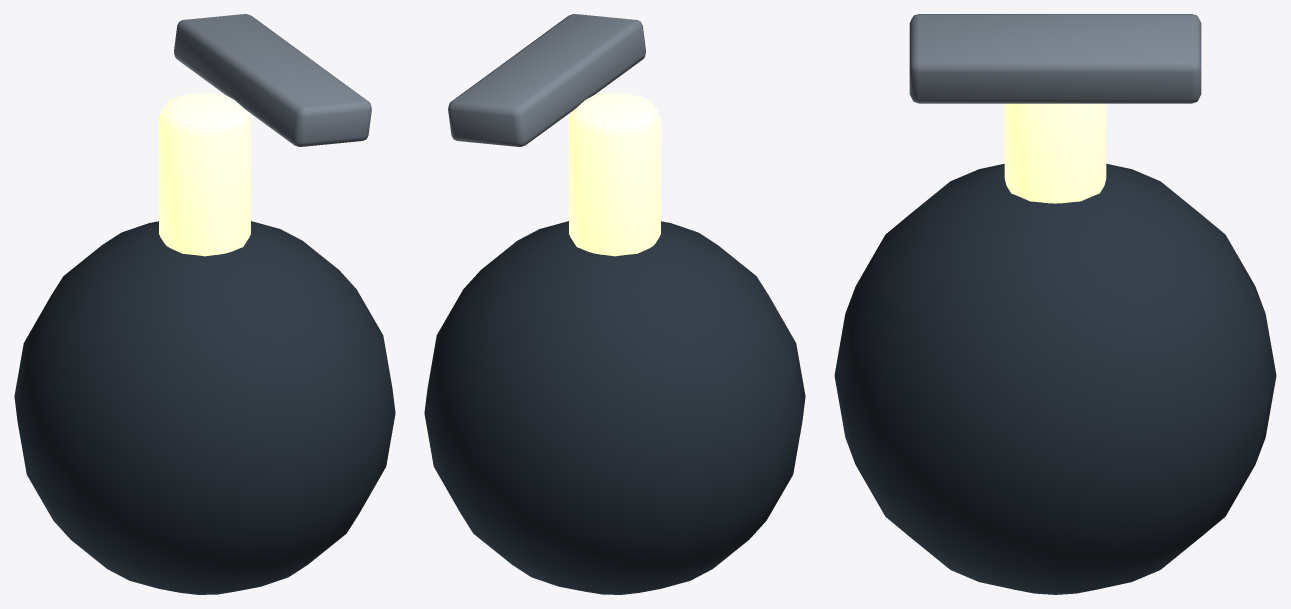
Rendered from Raider_EMPGrenade.fbx.
3 views of the same model, side by side, from view 1: azimuth 30°, elevation 25°; view 2: azimuth 150°, elevation 25°; view 3: azimuth 270°, elevation 25° (orthographic). The views are drawn at different scales.
Parts seen in each view (by area): view 1: Core.005, SafetyLever.005, Fuse.005; view 2: Core.005, SafetyLever.005, Fuse.005; view 3: Core.005, SafetyLever.005, Fuse.005.
Part boxes in pixels (box(x1,y1,x2,y2)): Core.005: box(14, 221, 395, 594); SafetyLever.005: box(174, 14, 371, 146); Fuse.005: box(159, 92, 250, 256); Core.005: box(424, 221, 805, 594); SafetyLever.005: box(448, 14, 645, 146); Fuse.005: box(569, 92, 660, 256); Core.005: box(834, 163, 1276, 594); SafetyLever.005: box(909, 14, 1201, 103); Fuse.005: box(1004, 103, 1106, 203).
Size of the model in its own units: 88 by 128 by 88.
